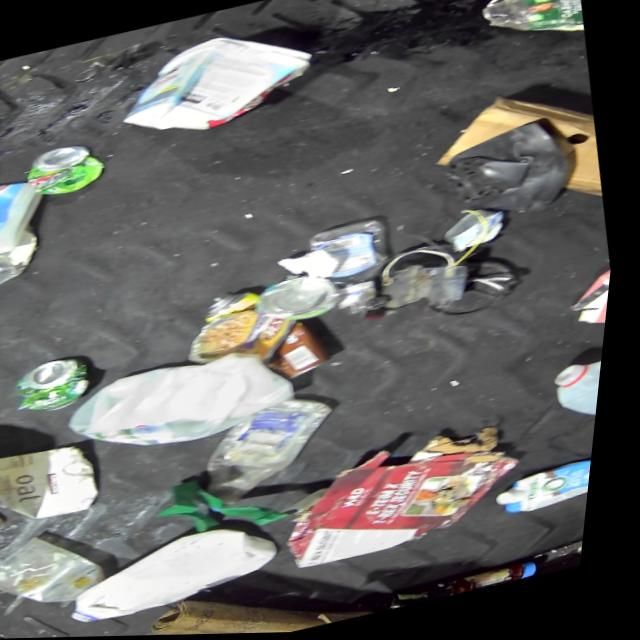can: (196, 268, 351, 399), (23, 134, 117, 202), (15, 351, 107, 419), (256, 268, 351, 331), (380, 237, 479, 288), (441, 202, 518, 256)
milk_jug: (66, 335, 316, 469), (66, 514, 305, 631), (548, 354, 610, 451)
plastic_bottle: (195, 387, 359, 515)
